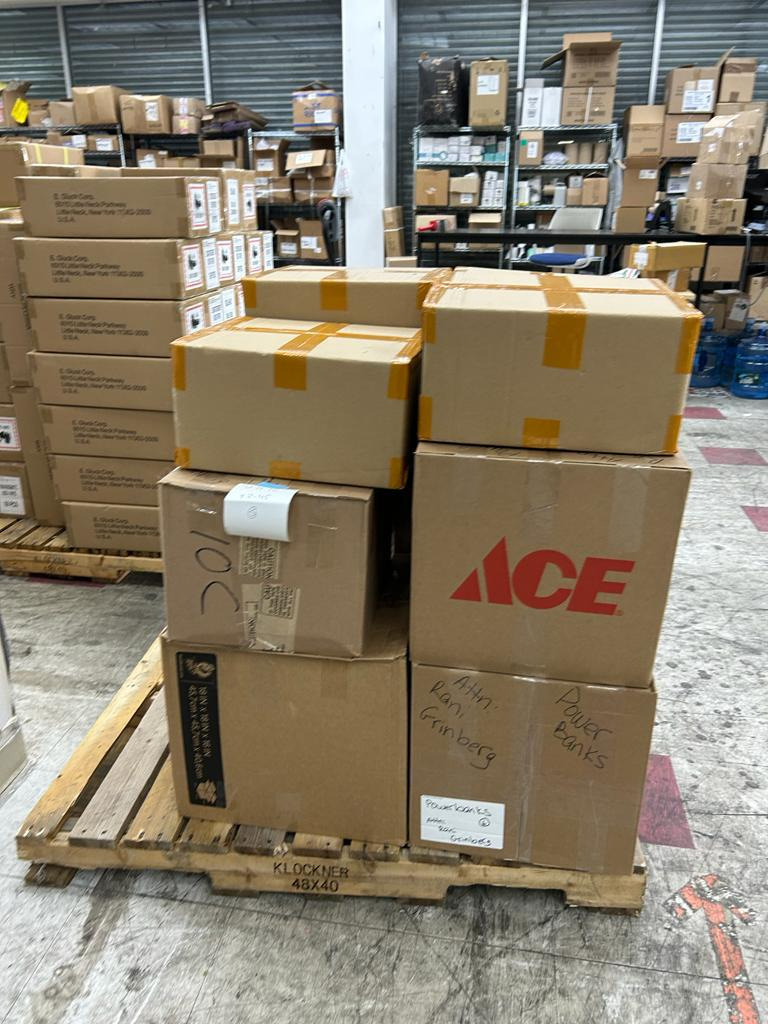box: (417, 424, 723, 666), (412, 646, 667, 867), (420, 258, 692, 451), (161, 646, 430, 838), (146, 326, 396, 498), (165, 479, 389, 658), (2, 216, 205, 311), (17, 176, 201, 246), (31, 336, 190, 413), (31, 401, 184, 454), (65, 495, 158, 558), (64, 449, 170, 502), (561, 24, 630, 102)
